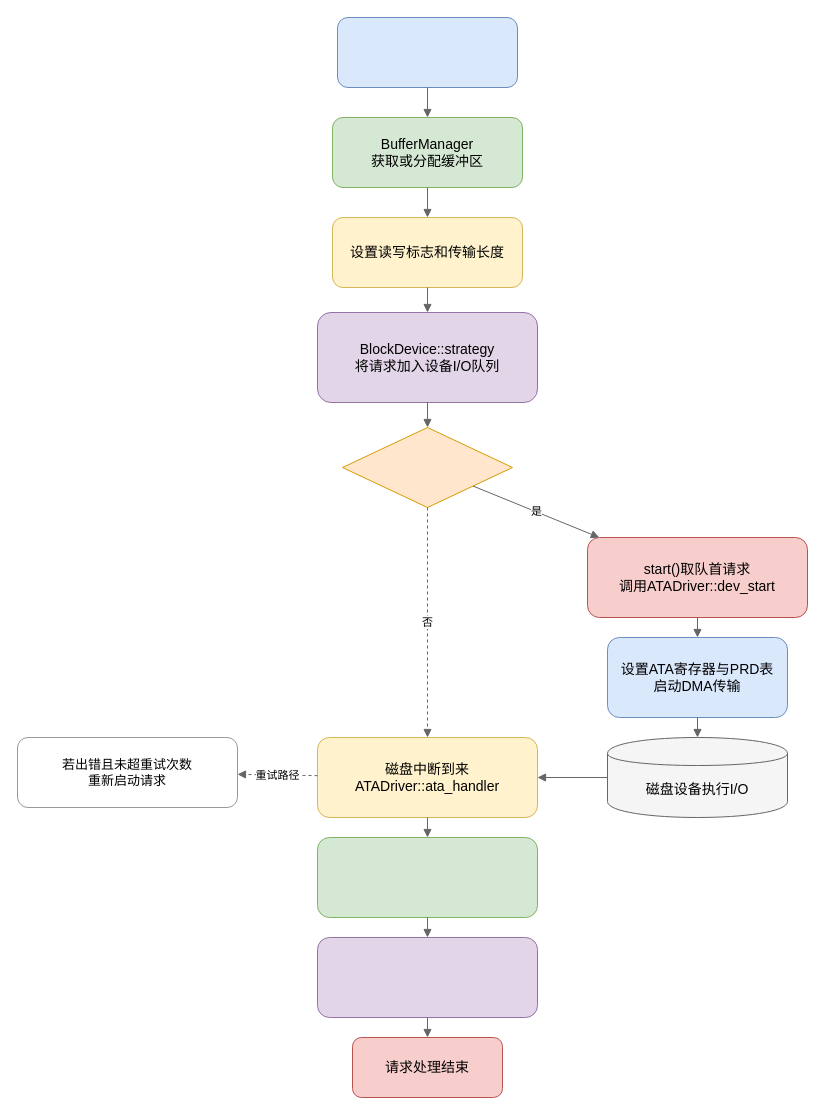
Image size: 825x1115. Some labels were removed from this diagram. Each missing label, with the centre of its shape:
"唤醒等待I/O完成的进程 同步请求返回结果" belongs at [427,977].
"文件系统或交换区 发起块I/O请求" belongs at [427,52].
"更新设备状态 弹出已完成请求 调用io_done" belongs at [427,877].
"设备是否空闲" belongs at [427,467].
